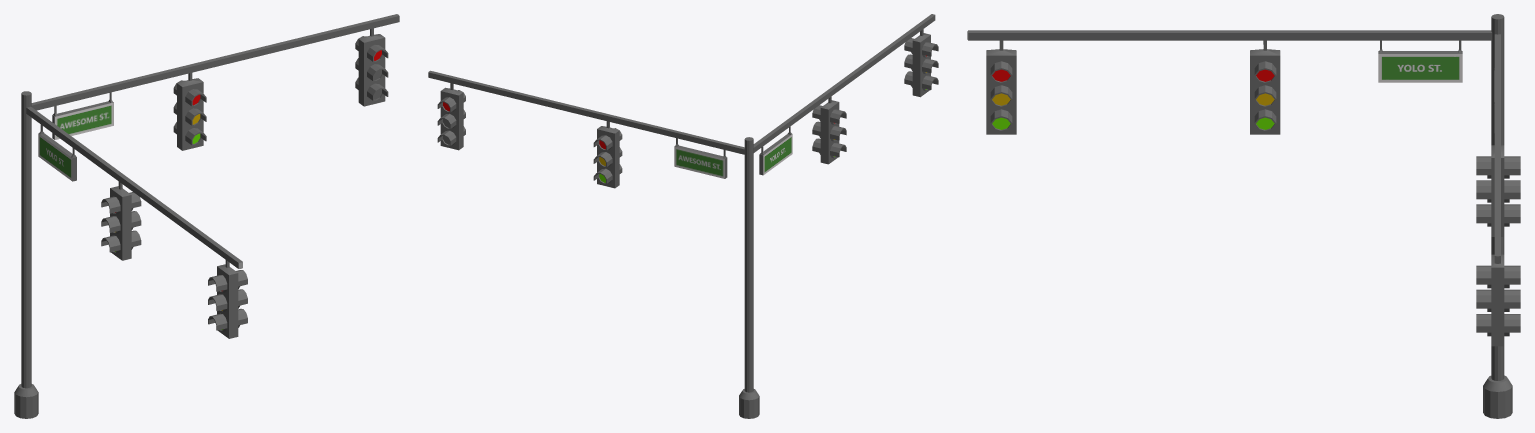
Rendered from Stop Light V3.fbx.
The picture shows the model from 3 angles, left to right: view 1: azimuth 30°, elevation 25°; view 2: azimuth 150°, elevation 25°; view 3: azimuth 270°, elevation 25°; orthographic projection. The views are drawn at different scales.
Parts seen in each view (by area): view 1: Street1; view 2: Street1; view 3: Street1.
Boxes of the visible parts, x1=… form: Street1: x1=14, y1=14, x2=399, y2=418; Street1: x1=428, y1=14, x2=938, y2=418; Street1: x1=967, y1=14, x2=1520, y2=418.
Bounding box in the file's own units: 78.65 × 62.21 × 78.78.
7 materials, 2 textured.
